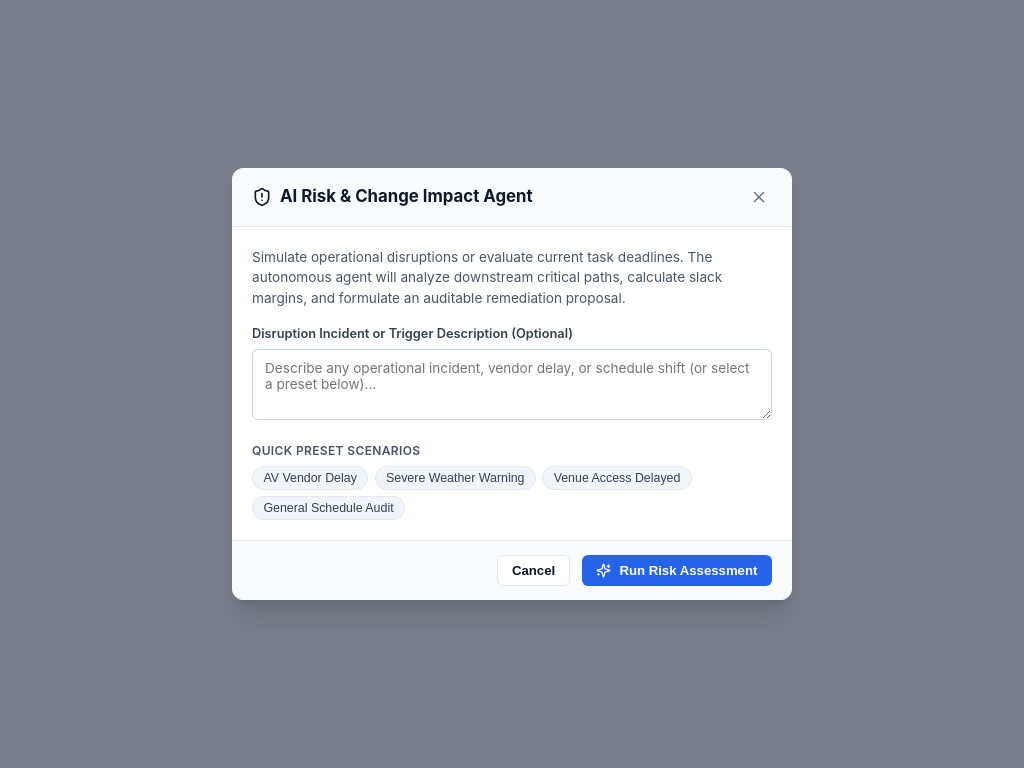
Scenario: RiskAssessmentModal Component › clicking a preset chip populates the reason textarea
This screenshot has width=1024, height=768.
Expected: the text box with placeholder "Describe any operational incident" is empty, x1=252 y1=349 x2=772 y2=420
Click the button "AV Vendor Delay" at [310, 478], box x1=252 y1=466 x2=368 y2=490
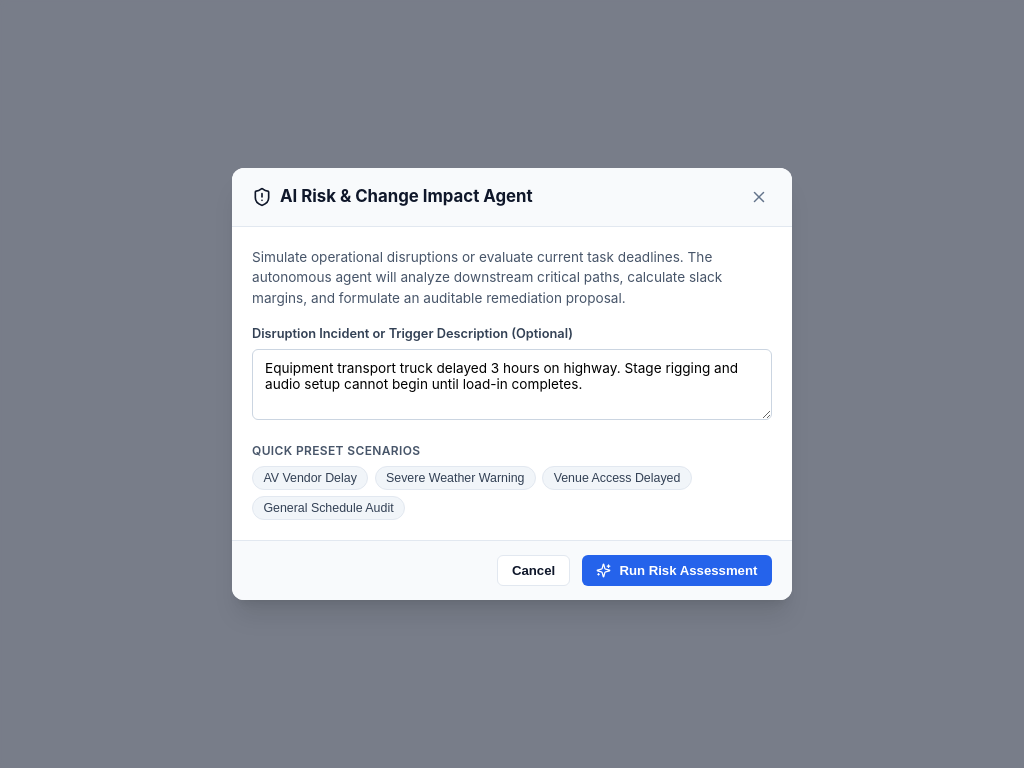
Result: the text box with placeholder "Describe any operational incident" holds "Equipment transport truck delayed 3 hours on highway. Stage rigging and audio setup cannot begin until load-in completes." at x1=252 y1=349 x2=772 y2=420
